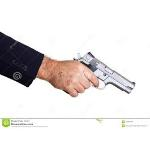Pistol: (60, 50, 136, 96)
